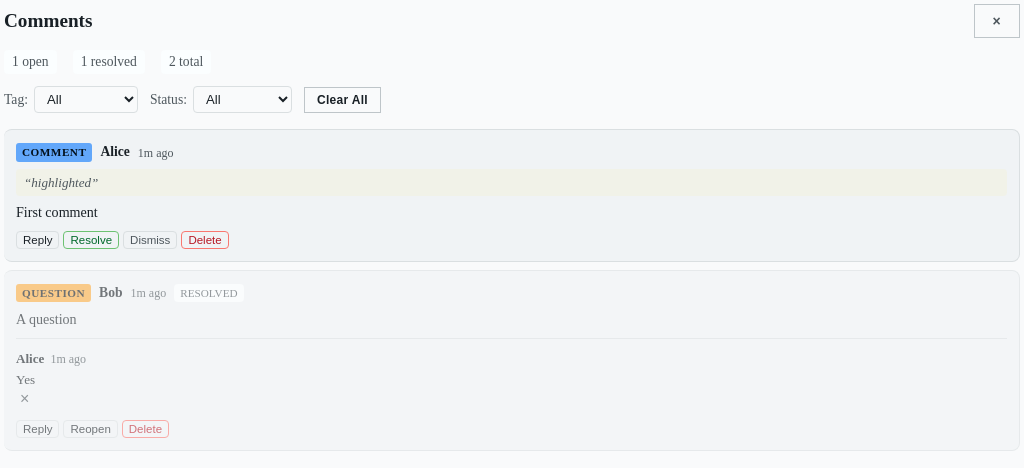
Test: CommentManager › filters by status (Open only)
Check: the text "First comment" is shown, box [16, 204, 98, 220]
Select "Open" in the dropdown next to "Status:" at (242, 100), box [193, 86, 292, 113]
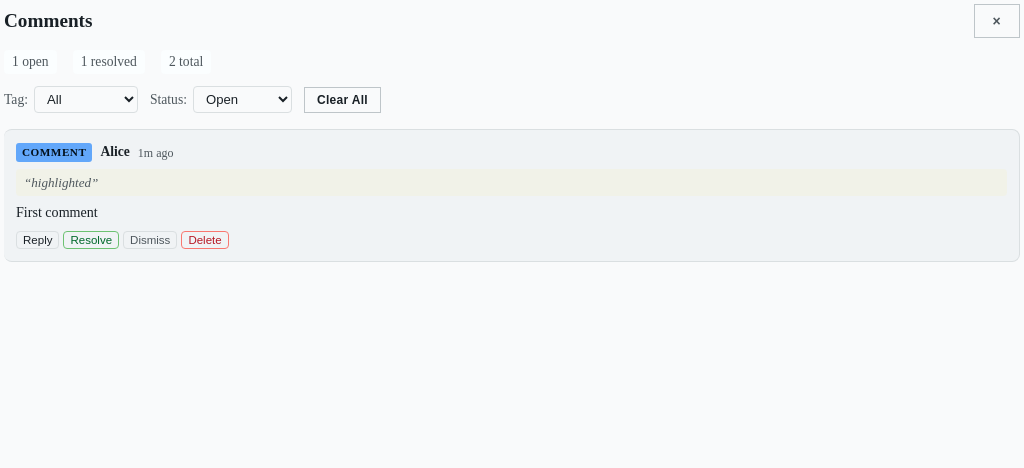
Check: the text "First comment" is shown, box [16, 204, 98, 220]
Check: the text "A question" is gone
